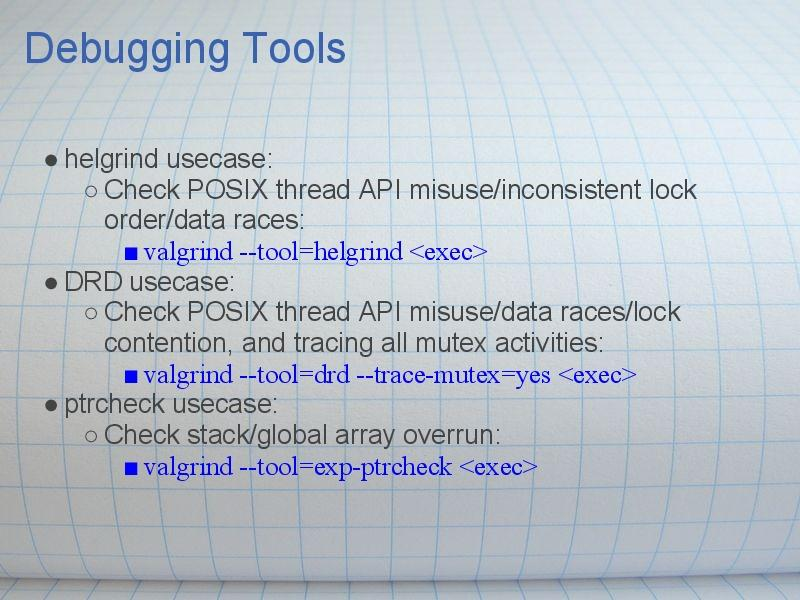paragraph: (32, 123, 745, 517)
title: (18, 14, 366, 84)
